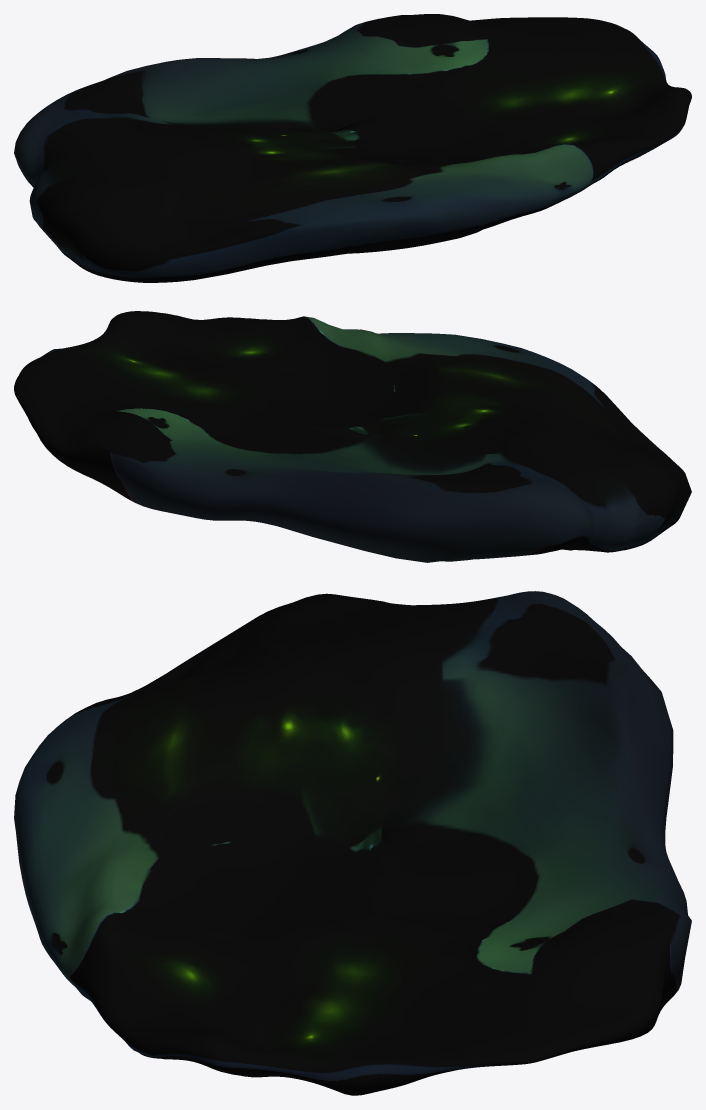
File: Swamp_Environs.glb
3 renders of one model, top to bottom at view 1: azimuth 30°, elevation 25°; view 2: azimuth 150°, elevation 25°; view 3: azimuth 270°, elevation 25°, orthographic. The views are drawn at different scales.
Visible parts, largest first — view 1: Cube.007; view 2: Cube.007; view 3: Cube.007.
Part boxes in pixels (left/top/right/bottom): Cube.007: left=14, top=14, right=691, bottom=282; Cube.007: left=14, top=311, right=691, bottom=562; Cube.007: left=14, top=591, right=691, bottom=1095.
Bounding box in the file's own units: 657 × 94.13 × 398.
Materials: 1 (1 with a texture image).
